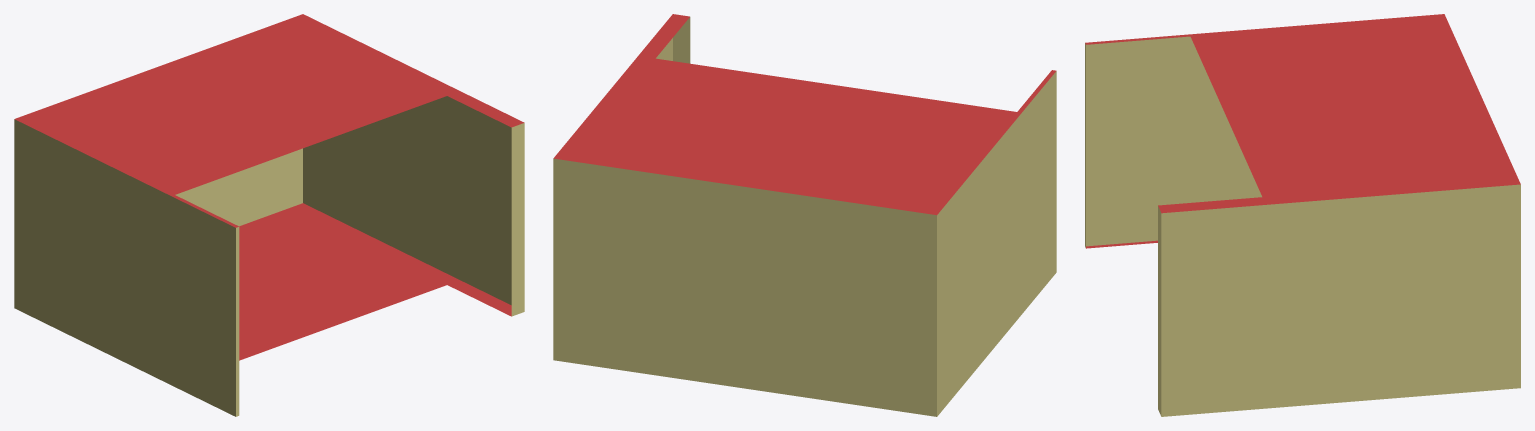
3 views of the same model, side by side, from view 1: azimuth 30°, elevation 25°; view 2: azimuth 150°, elevation 25°; view 3: azimuth 270°, elevation 25° (orthographic). The views are drawn at different scales.
Size of the model in its own units: 12.62 by 11.66 by 6.01.
